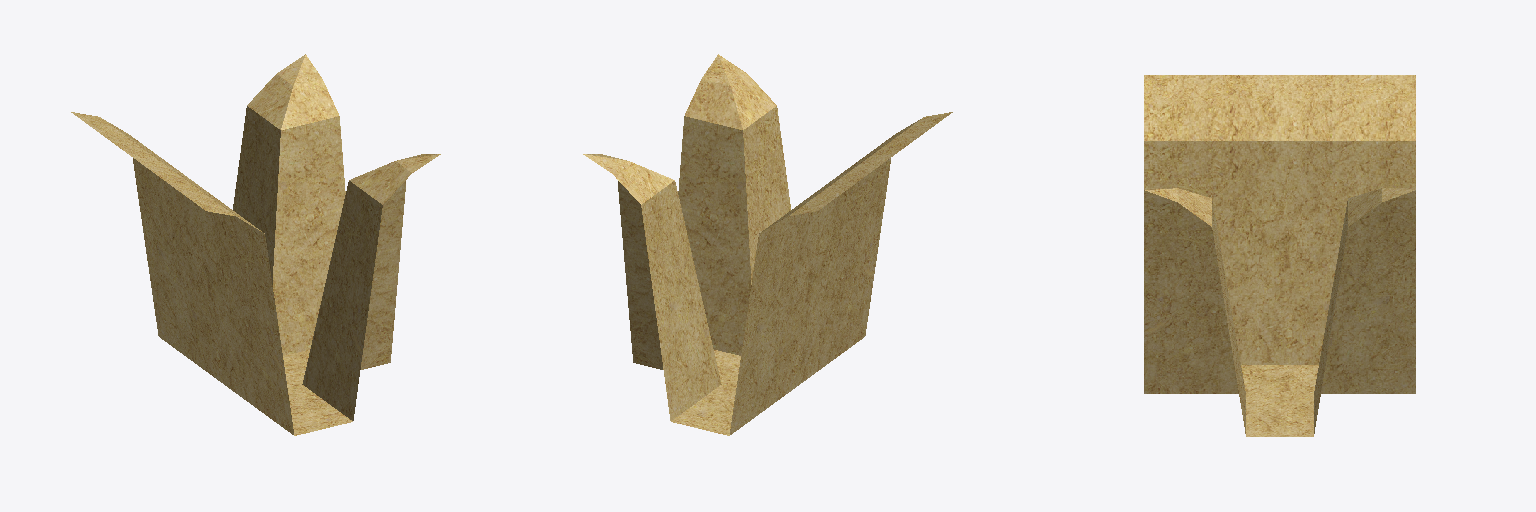
The picture shows the model from 3 angles: view 1: azimuth 30°, elevation 25°; view 2: azimuth 150°, elevation 25°; view 3: azimuth 270°, elevation 25°; orthographic projection.
Visible parts, largest first — view 1: Grid_Grid.017_Grid_Grid.010; view 2: Grid_Grid.017_Grid_Grid.010; view 3: Grid_Grid.017_Grid_Grid.010.
Boxes of the visible parts, x1,y1,x2,y2 form: Grid_Grid.017_Grid_Grid.010: [71, 54, 440, 435]; Grid_Grid.017_Grid_Grid.010: [583, 54, 952, 435]; Grid_Grid.017_Grid_Grid.010: [1144, 75, 1415, 436].
Size of the model in its own units: 1 by 1 by 1.
Materials: 1 (1 with a texture image).